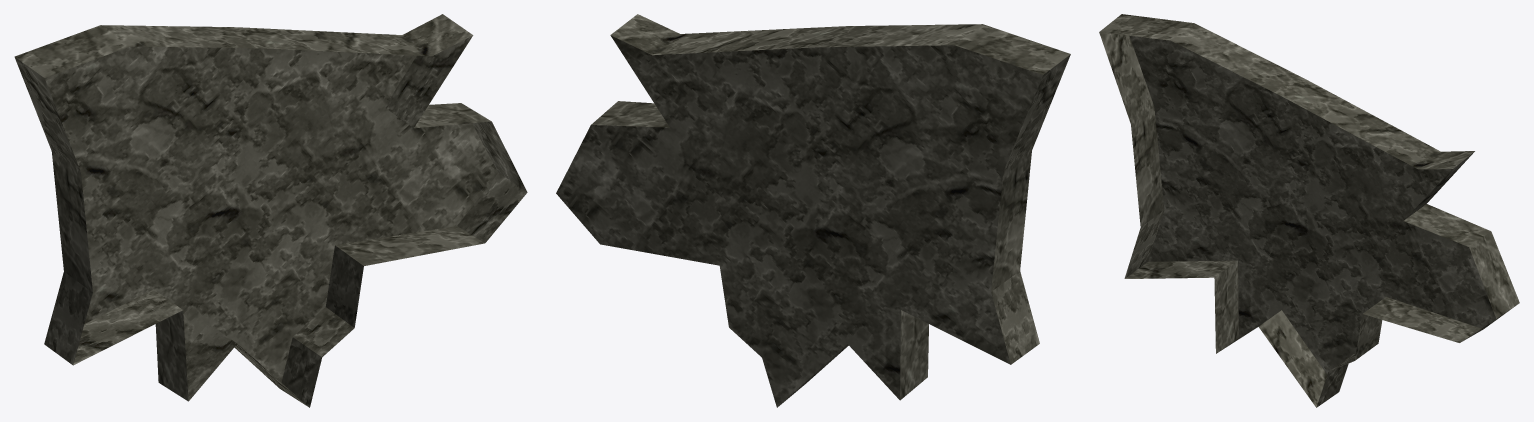
File: TI_Plaster_04.fbx
The picture shows the model from 3 angles, left to right: view 1: azimuth 30°, elevation 25°; view 2: azimuth 150°, elevation 25°; view 3: azimuth 330°, elevation 25°; orthographic projection. The views are drawn at different scales.
Visible parts, largest first — view 1: TI_Plaster_04; view 2: TI_Plaster_04; view 3: TI_Plaster_04.
Part boxes in pixels (x1=…): TI_Plaster_04: x1=14, y1=14, x2=527, y2=407; TI_Plaster_04: x1=556, y1=14, x2=1070, y2=407; TI_Plaster_04: x1=1099, y1=14, x2=1519, y2=407.
Size of the model in its own units: 1.02 by 0.8186 by 0.1168.
